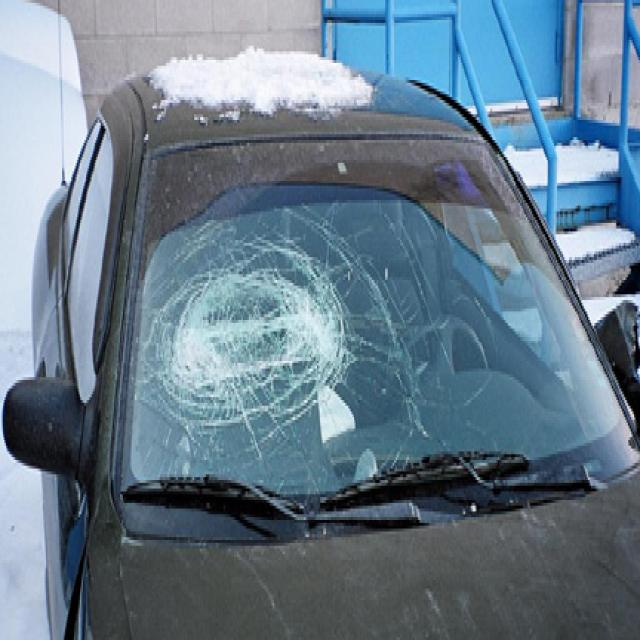crack: (137, 197, 429, 493)
